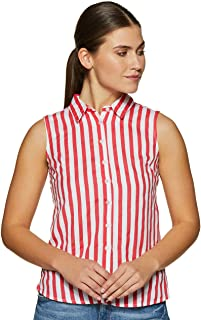shirt: (33, 97, 169, 300)
